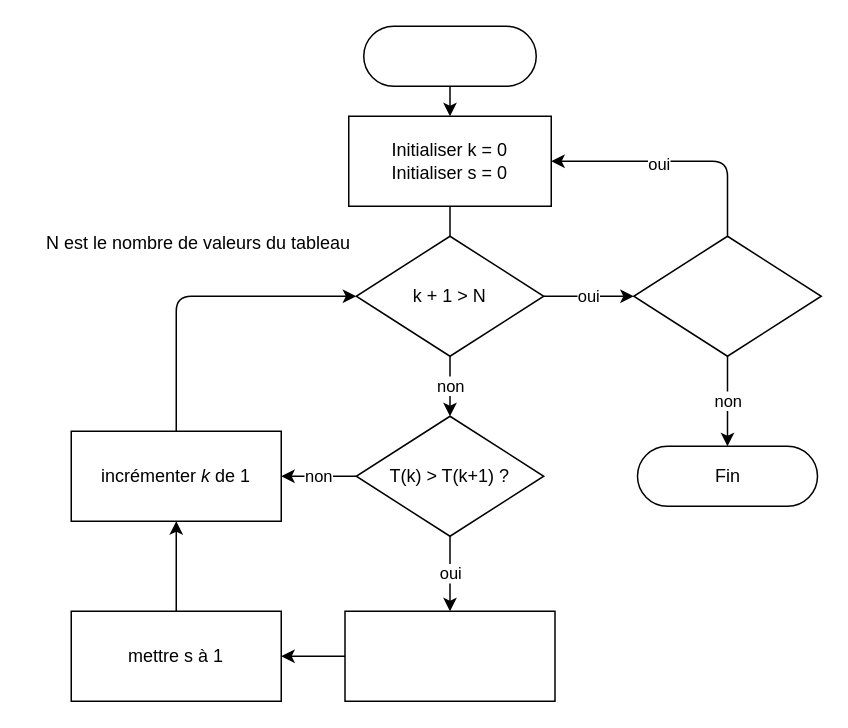
This 848x728 diagram has some shape labels left out. The shapes that lost their labels are listed below. From the top down, each one's centre as x and y in pixels, then its label:
the point at 449,55: Début
the point at 726,295: s = 1 ?
the point at 449,655: inverser T(k) et T(k+1)
